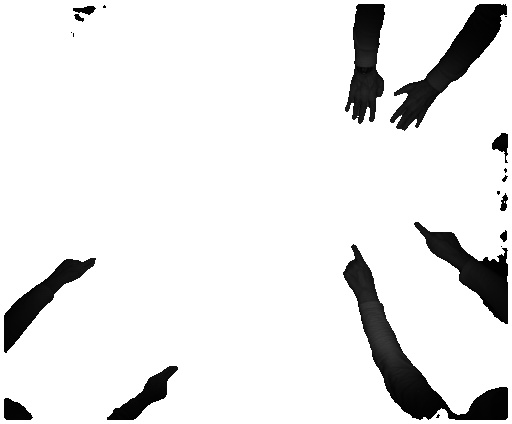hand: (410, 216, 468, 265), (344, 72, 388, 127), (336, 241, 377, 299), (391, 85, 439, 133), (143, 360, 183, 404), (54, 256, 95, 289)
